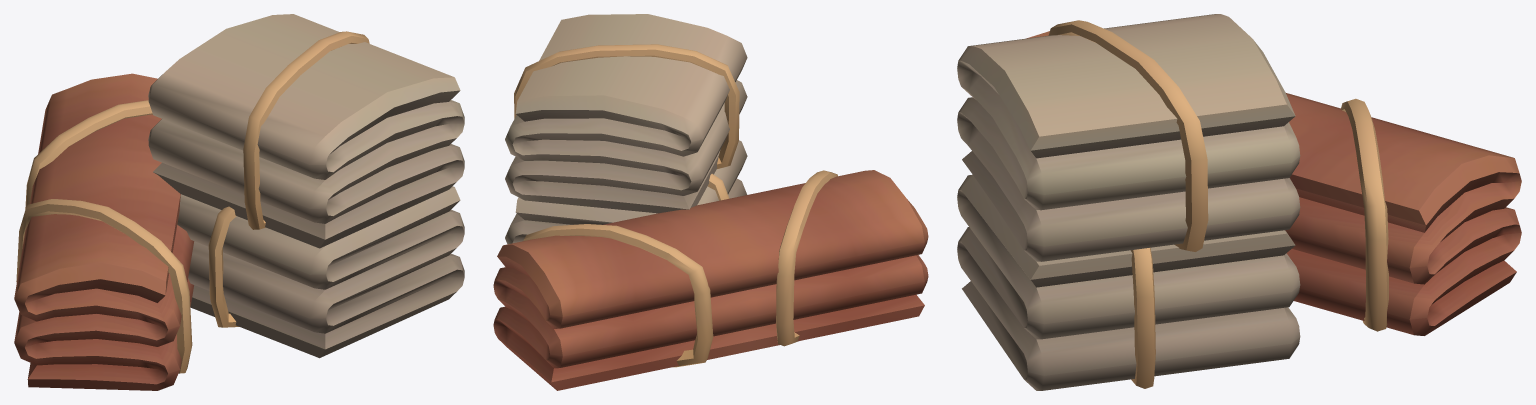
File: textiles-stack-small.glb
The picture shows the model from 3 angles, left to right: view 1: azimuth 30°, elevation 25°; view 2: azimuth 150°, elevation 25°; view 3: azimuth 270°, elevation 25°; orthographic projection. The views are drawn at different scales.
Visible parts, largest first — view 1: Textiles_Stack_Small; view 2: Textiles_Stack_Small; view 3: Textiles_Stack_Small.
Boxes of the visible parts, <box> form: Textiles_Stack_Small: <box>14,14,464,390</box>; Textiles_Stack_Small: <box>493,14,928,390</box>; Textiles_Stack_Small: <box>957,14,1521,390</box>.
Bounding box in the file's own units: 1.66 × 0.9318 × 1.59.
Materials: 1 (1 with a texture image).
